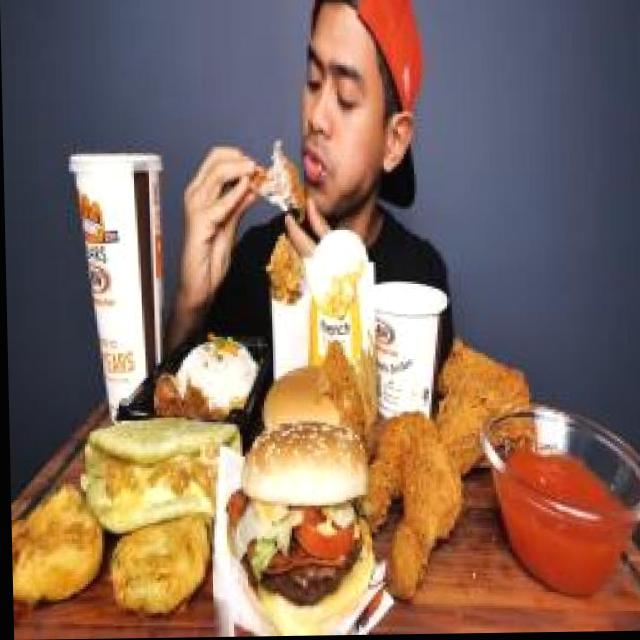AW cola: (67, 126, 187, 410)
black pepper rice bowl: (144, 332, 259, 441)
cheese burger: (256, 358, 361, 447)
chicken waffle: (249, 219, 324, 340)
crispy corn: (365, 270, 455, 424)
french fries: (294, 251, 374, 345)
fried chicken: (354, 329, 544, 616), (314, 326, 371, 449), (237, 136, 312, 225)
mango chicken pocket: (75, 410, 247, 542)
mozza burger: (227, 421, 376, 632)
perkedel: (99, 498, 216, 622), (8, 482, 106, 613)
